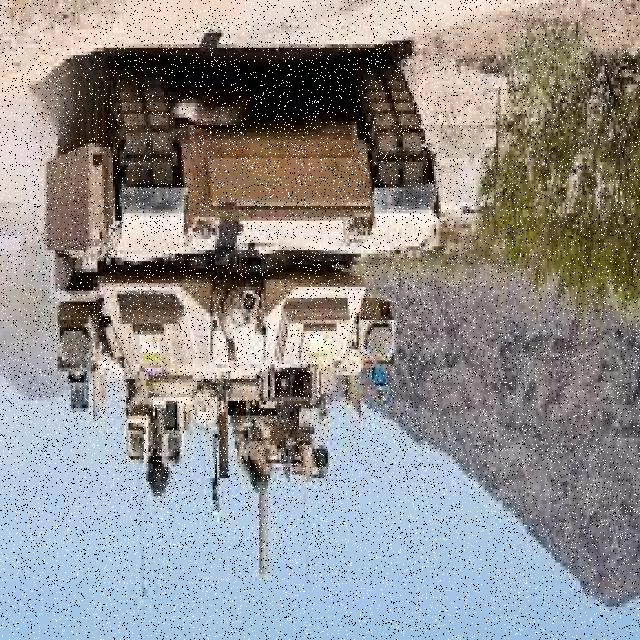MIL_MBT: (27, 59, 445, 551)
